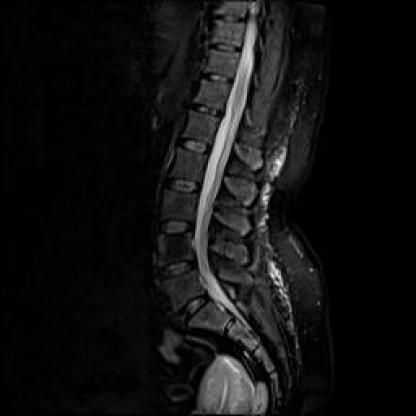Disc Relaxationrotation: (150, 255, 203, 281)
